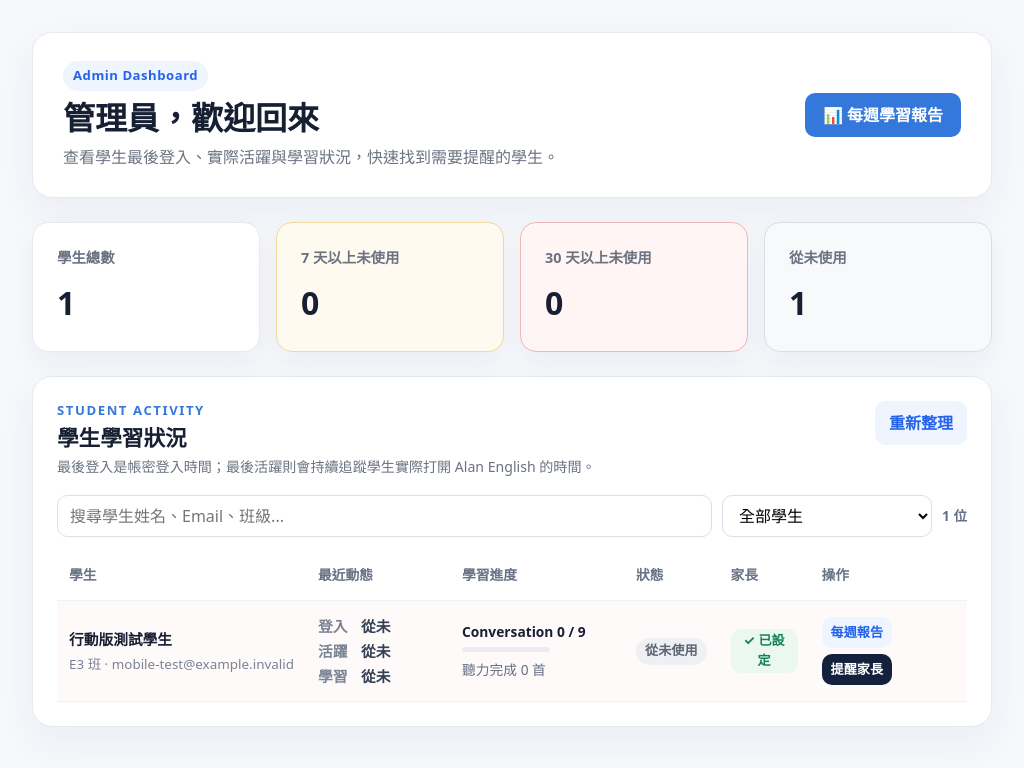
Test: ManagementDashboard › 家長提醒要先開啟 Email，才能按我已寄出
Click the button "提醒家長": [857, 670] box [822,654,892,685]
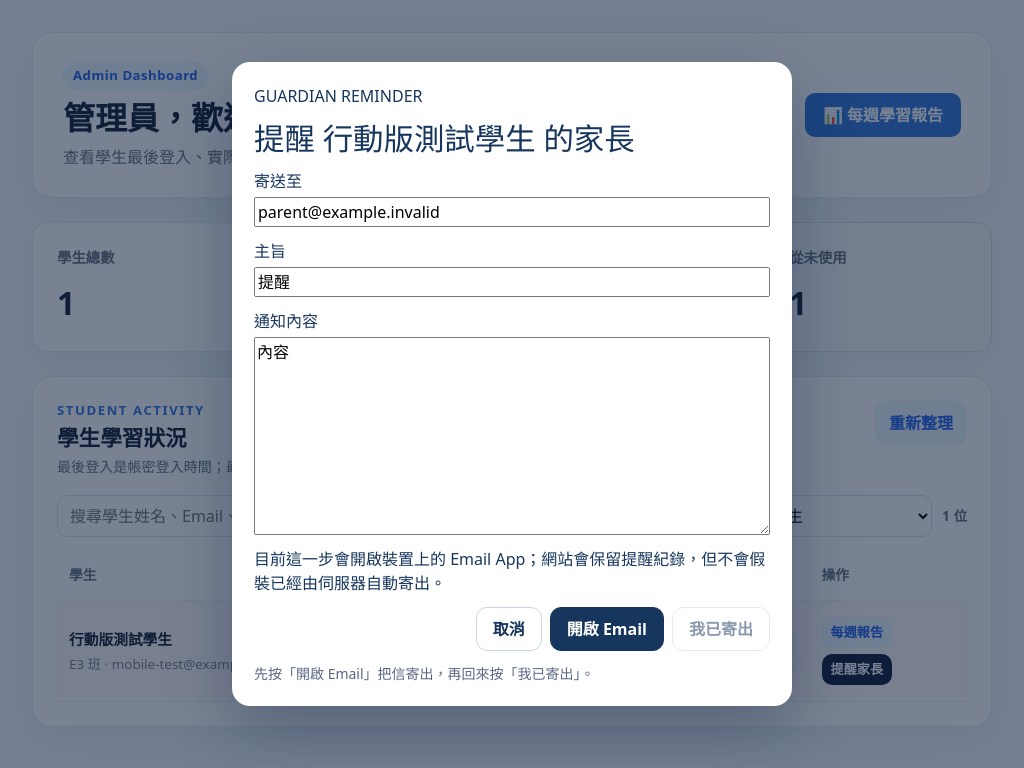
Expected: the button "我已寄出" is disabled, [672,607,770,651]
